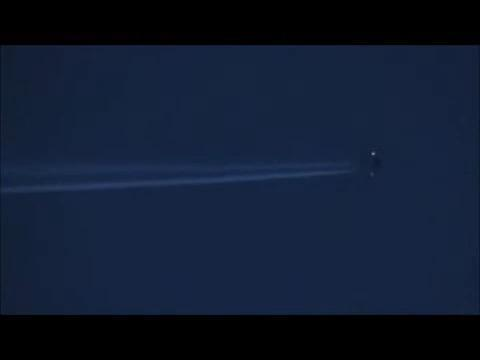Plane: (211, 149, 389, 185)
